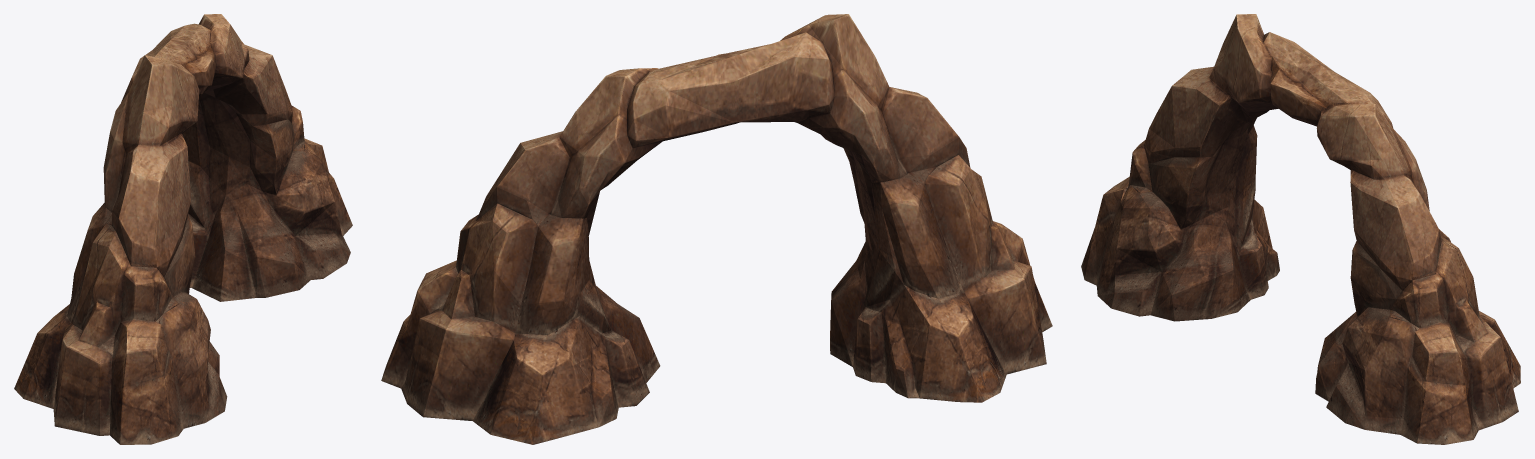
File: Item_5008_shitou_shitou03.FBX
3 renders of one model, left to right at view 1: azimuth 30°, elevation 25°; view 2: azimuth 150°, elevation 25°; view 3: azimuth 270°, elevation 25°, orthographic. The views are drawn at different scales.
Parts seen in each view (by area): view 1: Item_5008_shitou_shitou03; view 2: Item_5008_shitou_shitou03; view 3: Item_5008_shitou_shitou03.
Boxes of the visible parts, x1,y1,x2,y2 form: Item_5008_shitou_shitou03: (14, 14, 352, 444); Item_5008_shitou_shitou03: (381, 14, 1052, 444); Item_5008_shitou_shitou03: (1081, 14, 1520, 444).
Size of the model in its own units: 976 by 654 by 890.
